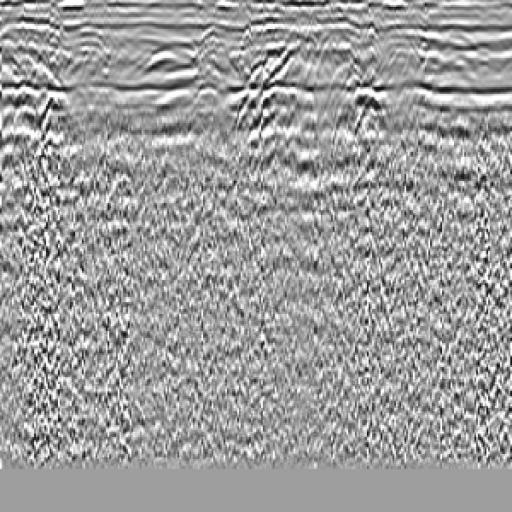non-metallic: (22, 66, 115, 301), (334, 53, 422, 281)
